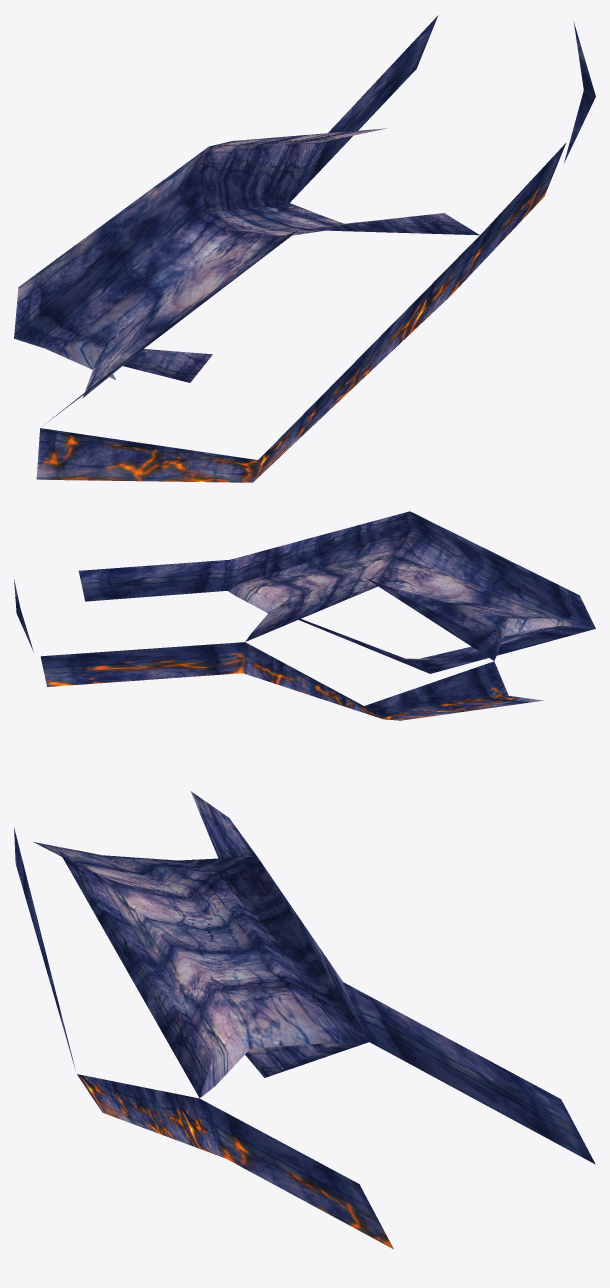
3 renders of one model, top to bottom at view 1: azimuth 30°, elevation 25°; view 2: azimuth 150°, elevation 25°; view 3: azimuth 270°, elevation 25°, orthographic. The views are drawn at different scales.
Parts seen in each view (by area): view 1: 21; view 2: 21; view 3: 21.
Part boxes in pixels (x1,y1,x2,y2): 21: [14, 15, 595, 482]; 21: [14, 511, 595, 720]; 21: [14, 791, 595, 1249].
Size of the model in its own units: 16214 by 6866 by 10229.
Materials: 2 (2 with a texture image).
